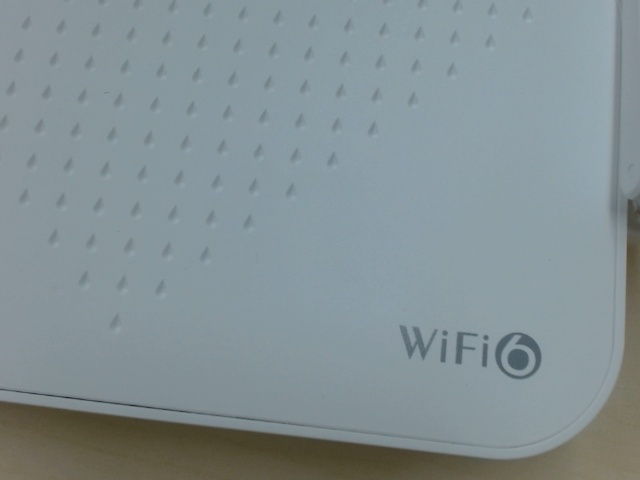AK_ZTEWIFI6: (390, 317, 546, 386)
